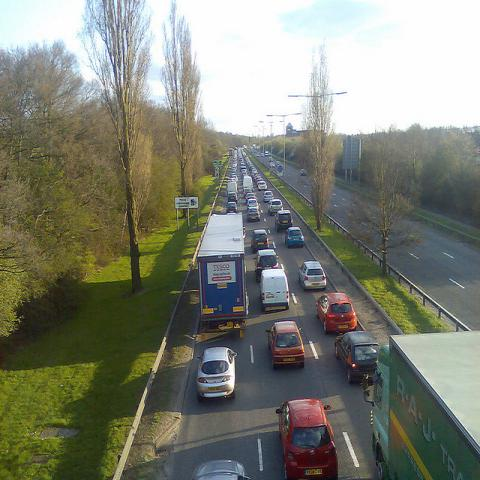car: (197, 145, 479, 479), (276, 401, 338, 474), (334, 330, 379, 382), (197, 346, 237, 402), (266, 320, 305, 369), (316, 292, 357, 334), (253, 249, 280, 282), (298, 260, 326, 291), (285, 226, 304, 248), (275, 209, 293, 231), (267, 198, 283, 216), (246, 207, 260, 221), (262, 190, 275, 203)
truck: (365, 331, 479, 479), (198, 211, 249, 327), (257, 270, 290, 308), (226, 179, 238, 196), (243, 176, 254, 192)
